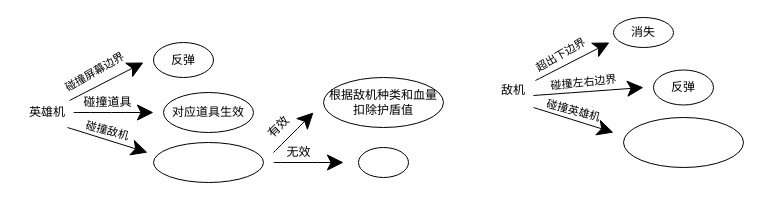
The diagram is 761 pixels wide and 200 high, and some of its shapes have lost their labels. Here are the shapes that lost their labels. From the top down, the centre of each, then its label:
point (208, 162): 根据护盾效果判断
point (383, 162): 坠毁
point (683, 142): 根据敌机种类和血量坠毁或扣除血量
